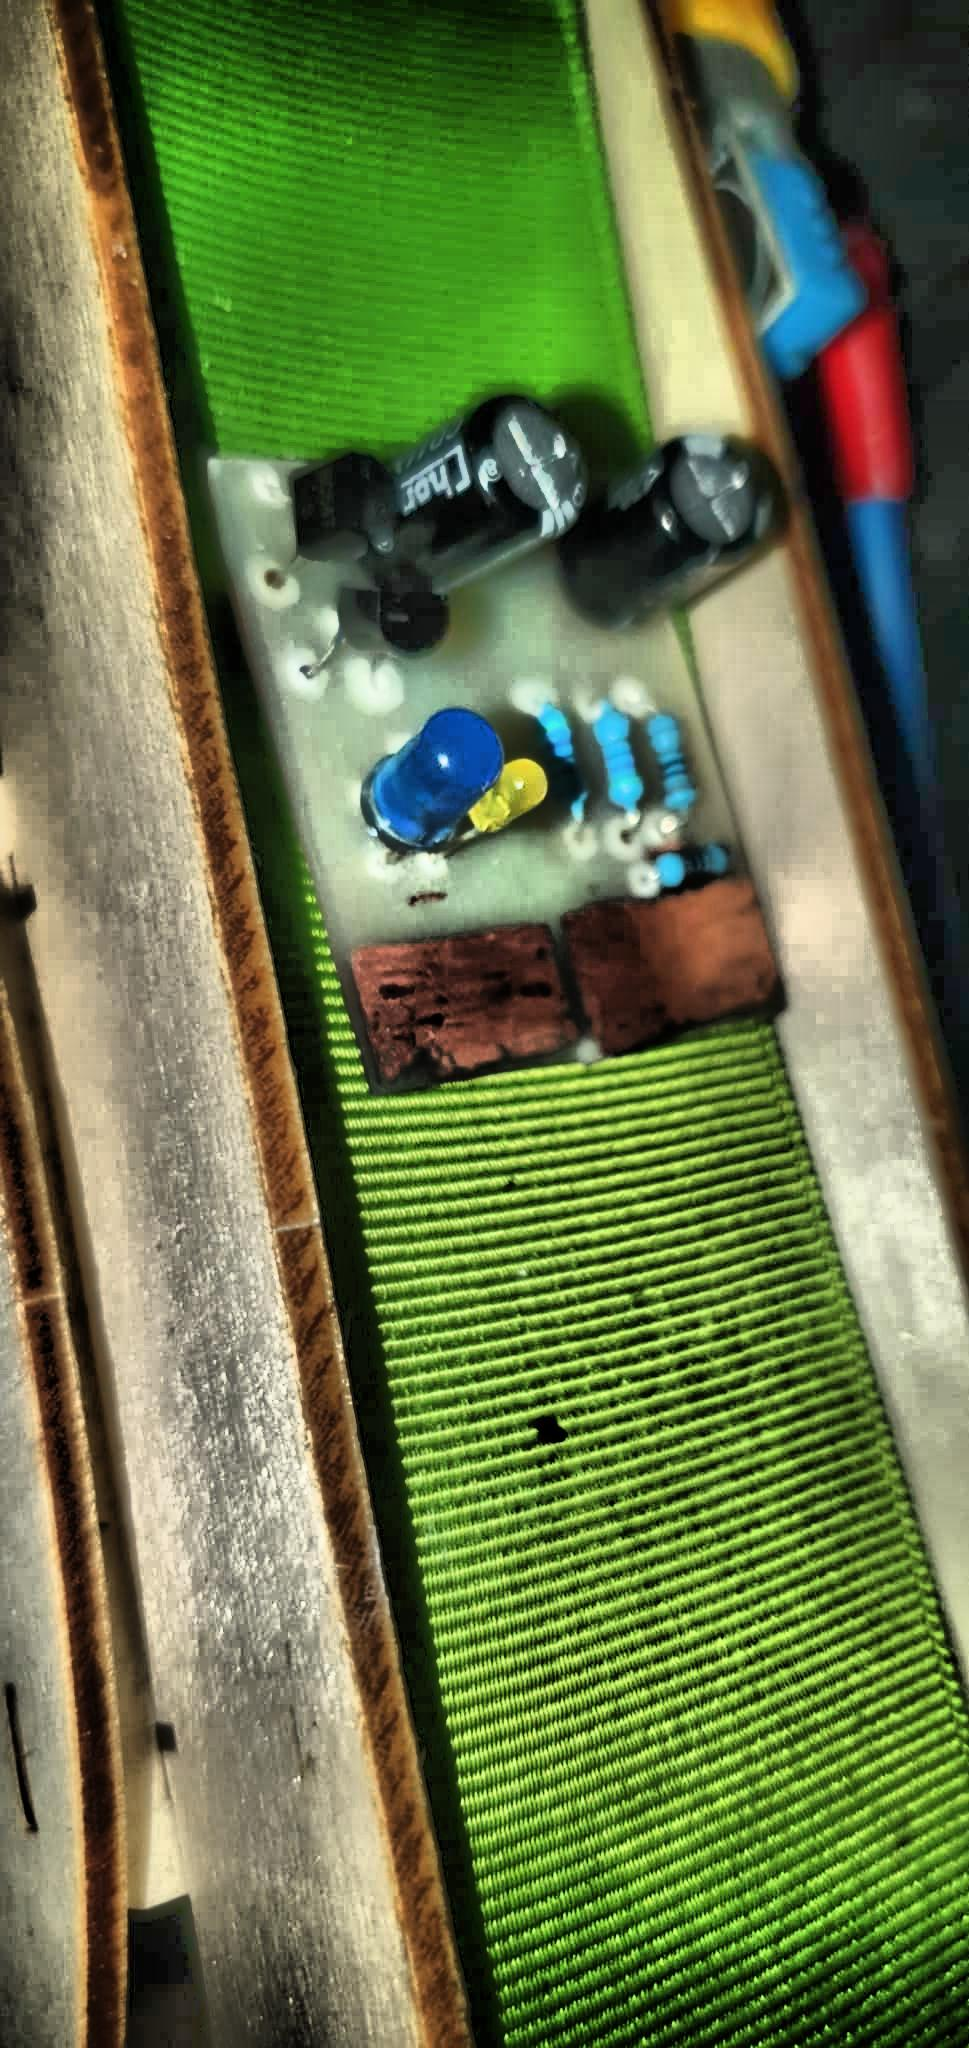IC: (336, 922, 593, 1081), (572, 871, 798, 1045)
